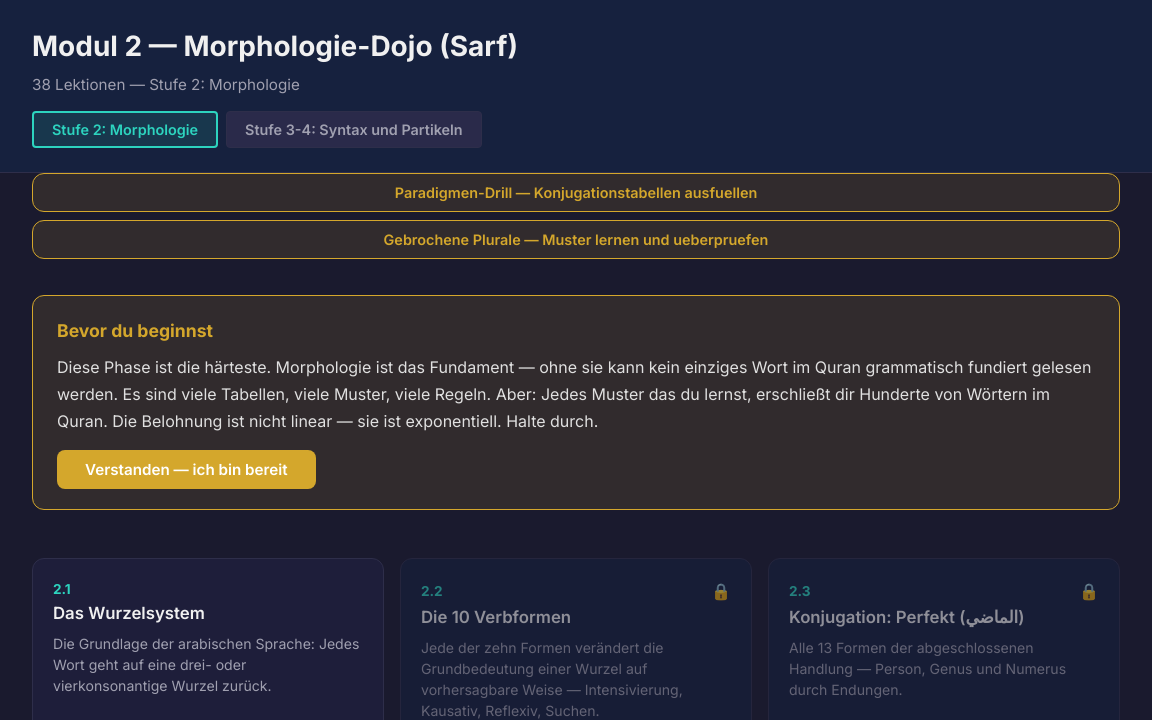
Test: Module2 — Morphologie-Dojo interactions › shows warning banner on initial render and dismisses it
Click the button "Verstanden — ich bin bereit" at (186,469), box 57,450 -> 316,489
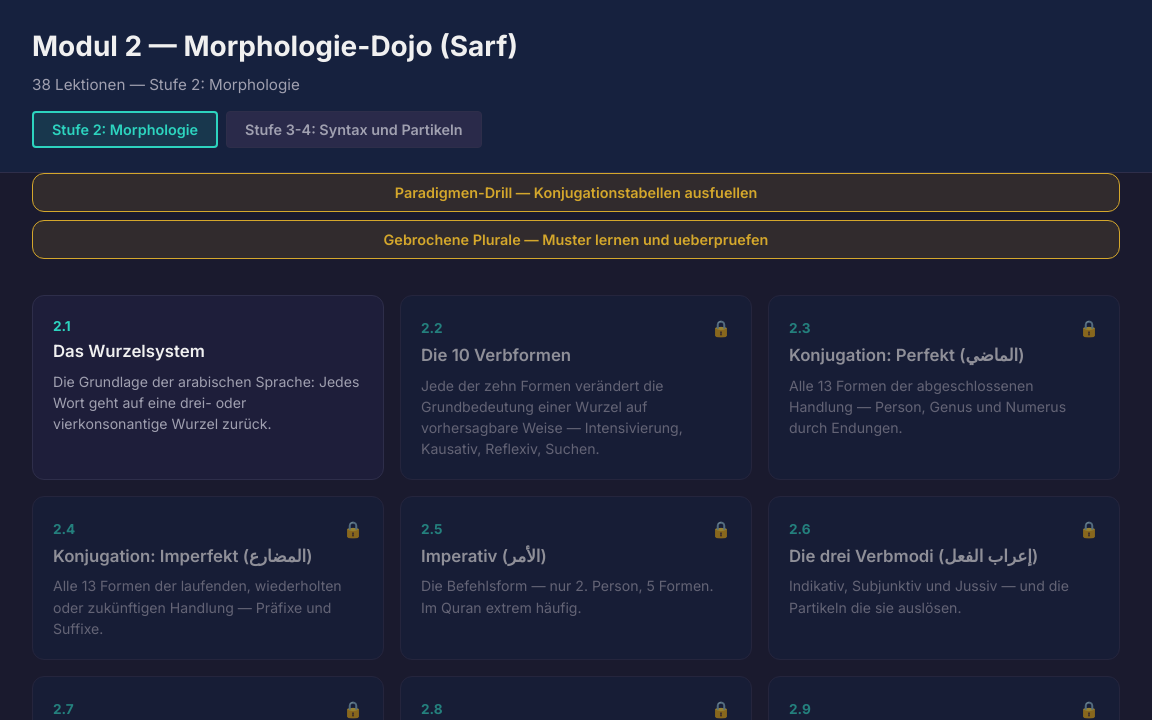
Expected: the text "Bevor du beginnst" is gone
